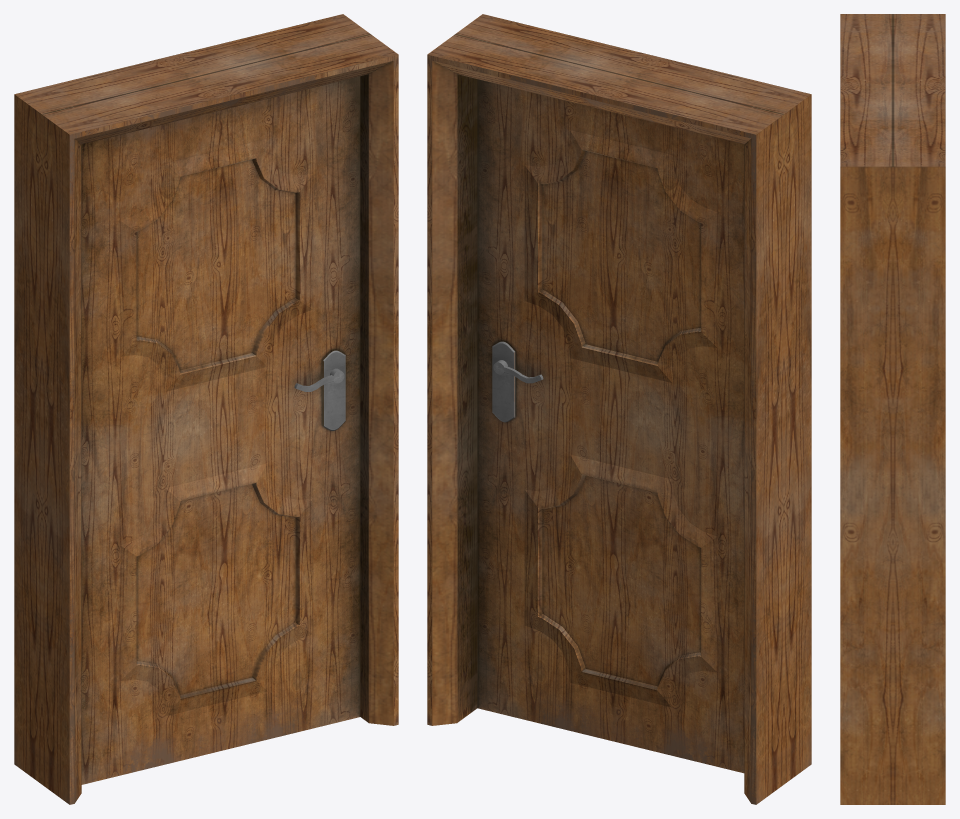
Rendered from 1784830418945_door_-_game_ready.glb.
3 renders of one model, left to right at view 1: azimuth 30°, elevation 25°; view 2: azimuth 150°, elevation 25°; view 3: azimuth 270°, elevation 25°, orthographic. The views are drawn at different scales.
Parts seen in each view (by area): view 1: Door, Door Frame; view 2: Door, Door Frame; view 3: Door Frame.
Boxes of the visible parts, x1=… form: Door: x1=81, y1=76, x2=360, y2=784; Door Frame: x1=14, y1=14, x2=398, y2=804; Door: x1=477, y1=79, x2=744, y2=773; Door Frame: x1=427, y1=14, x2=811, y2=804; Door Frame: x1=840, y1=14, x2=945, y2=804.
Size of the model in its own units: 5.42 by 10.55 by 1.58.
1 material, 1 textured.
